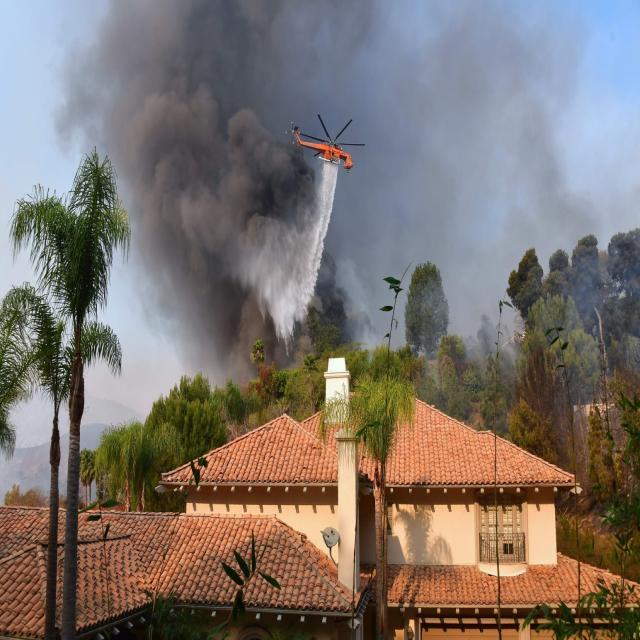Smoke: (60, 0, 352, 377), (428, 0, 606, 254)
